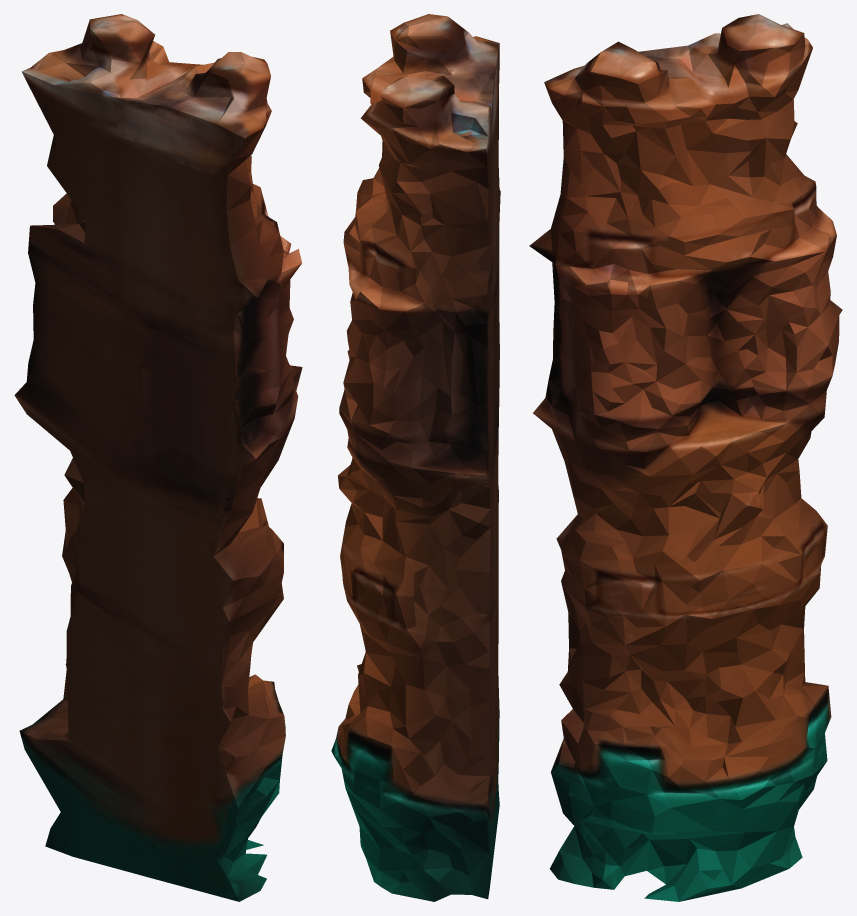
The model's file is perch.dae.
The picture shows the model from 3 angles, left to right: view 1: azimuth 30°, elevation 25°; view 2: azimuth 150°, elevation 25°; view 3: azimuth 270°, elevation 25°; orthographic projection. The views are drawn at different scales.
Visible parts, largest first — view 1: perch; view 2: perch; view 3: perch.
Boxes of the visible parts, box(x1,y1,x2,y2) form: perch: box(14, 14, 302, 901); perch: box(331, 14, 500, 901); perch: box(529, 14, 842, 901).
Bounding box in the file's own units: 2.02 × 2.54 × 7.44.
